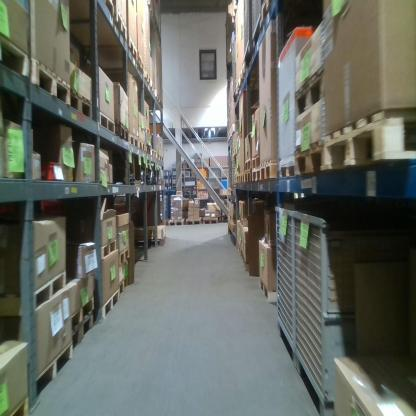pallets: (0, 34, 169, 163), (278, 107, 415, 180), (98, 2, 161, 100), (32, 342, 74, 394), (231, 160, 283, 184), (97, 279, 125, 321), (165, 214, 220, 230)
